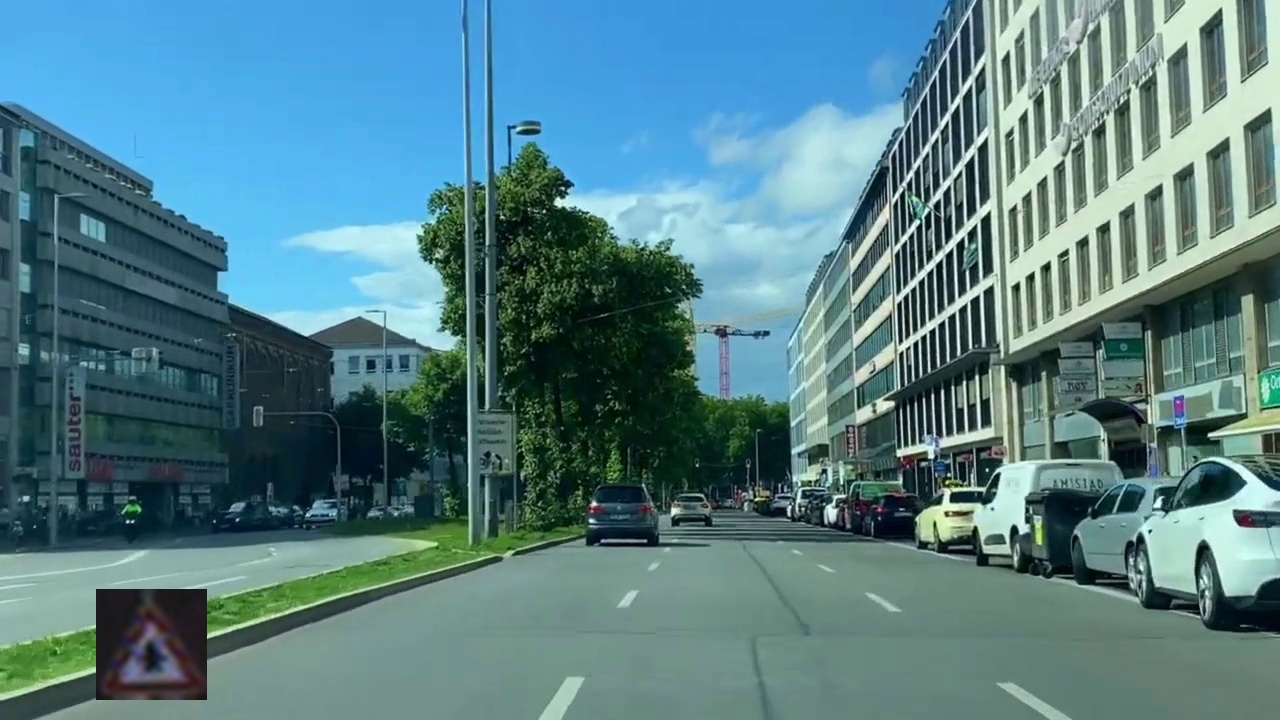Right-of-way: (96, 589, 207, 700)
